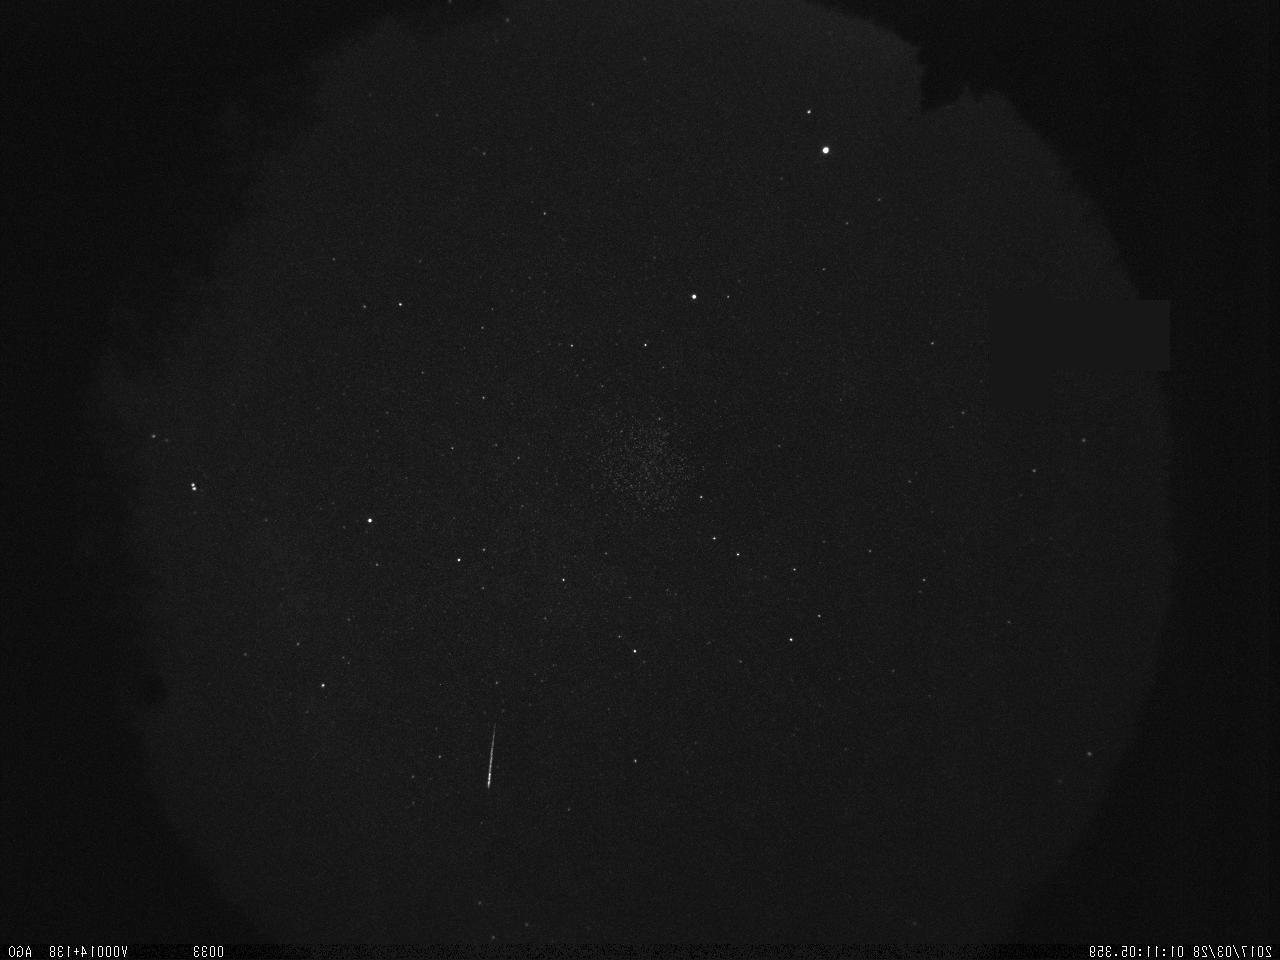meteor: (466, 718, 517, 803)
